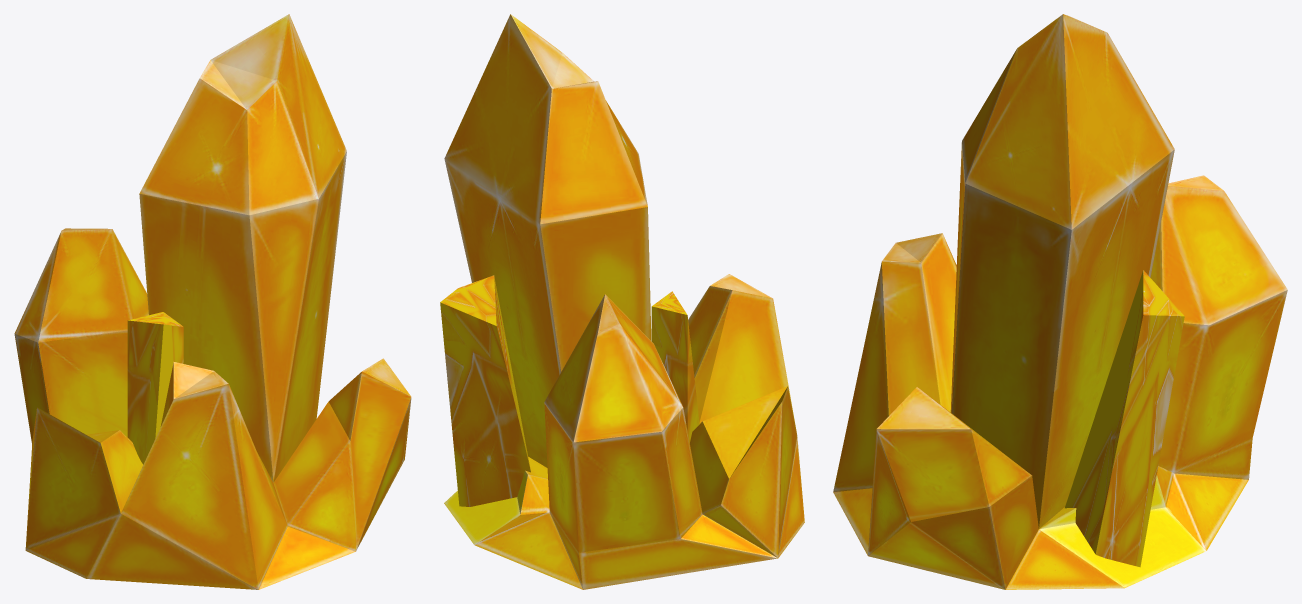
Rendered from crystal.glb.
3 renders of one model, left to right at view 1: azimuth 30°, elevation 25°; view 2: azimuth 150°, elevation 25°; view 3: azimuth 270°, elevation 25°, orthographic. The views are drawn at different scales.
Parts seen in each view (by area): view 1: Cube.002, Cube.001; view 2: Cube.002, Cube.001; view 3: Cube.002.
Part boxes in pixels (x1,y1,x2,y2): Cube.002: (14,14,411,589); Cube.001: (127,312,183,464); Cube.002: (440,14,804,589); Cube.001: (651,291,699,442); Cube.002: (833,14,1287,589).
Bounding box in the file's own units: 1.83 × 2.54 × 1.9.
Materials: 1 (1 with a texture image).
